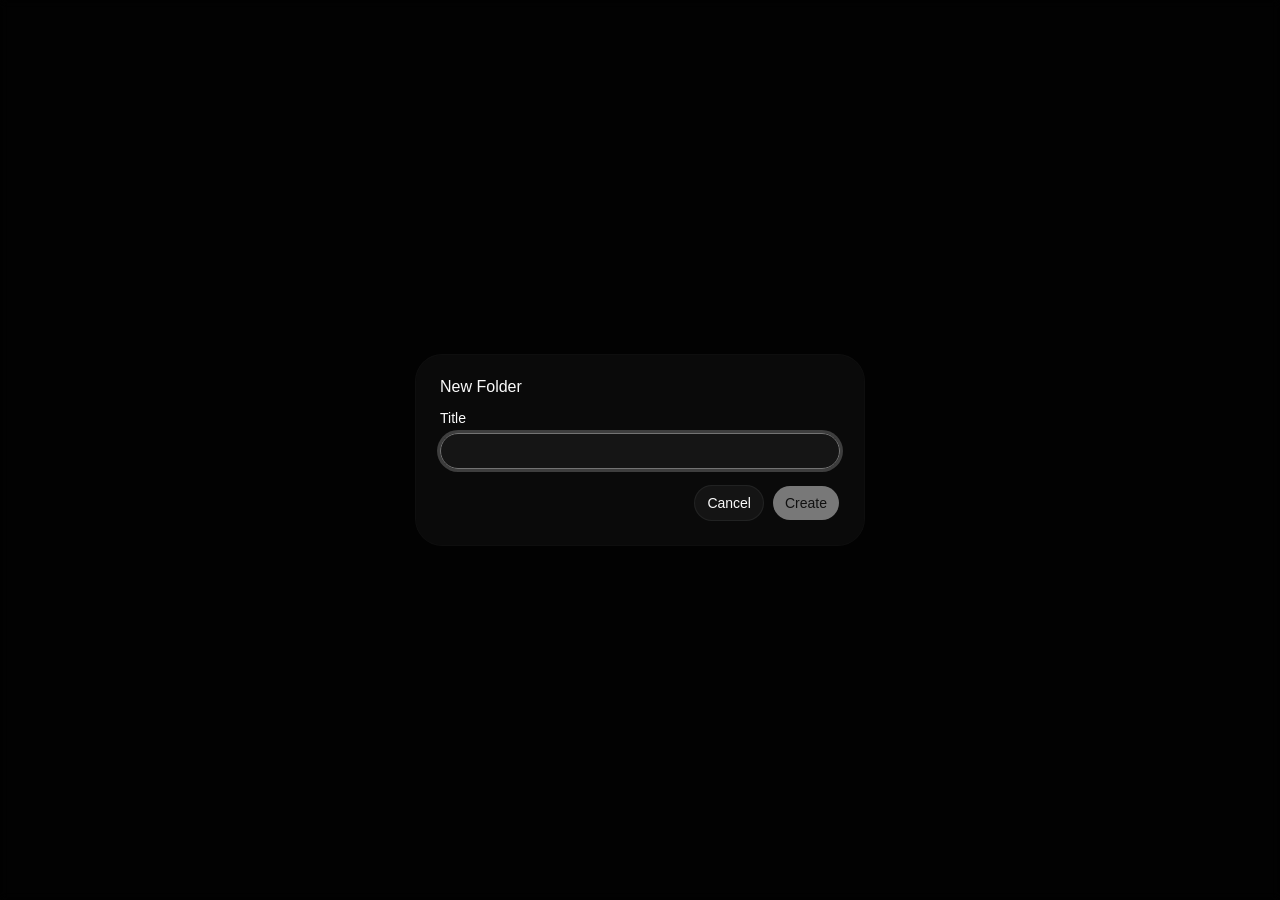
Test case: BookmarkOrganizerCreateDialog › disables Create until the folder has a title
Expected: the button "Create" is disabled, [772,485,840,521]
Type "Something" into the field labelled "Title" at (640, 451), box [440,433,840,469]
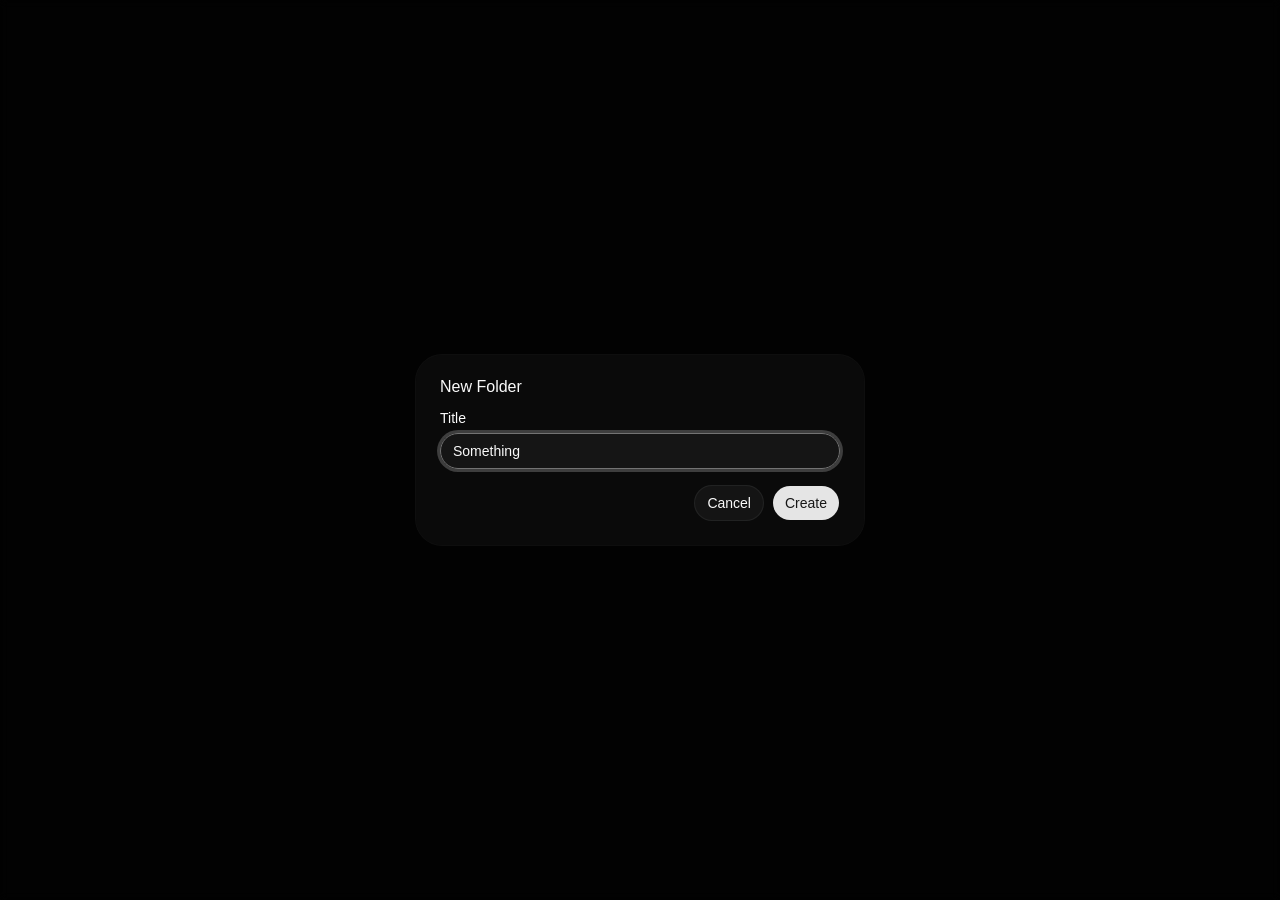
Now the button "Create" is enabled, box [772,485,840,521]
Clear the field labelled "Title" at (640, 451), box [440,433,840,469]
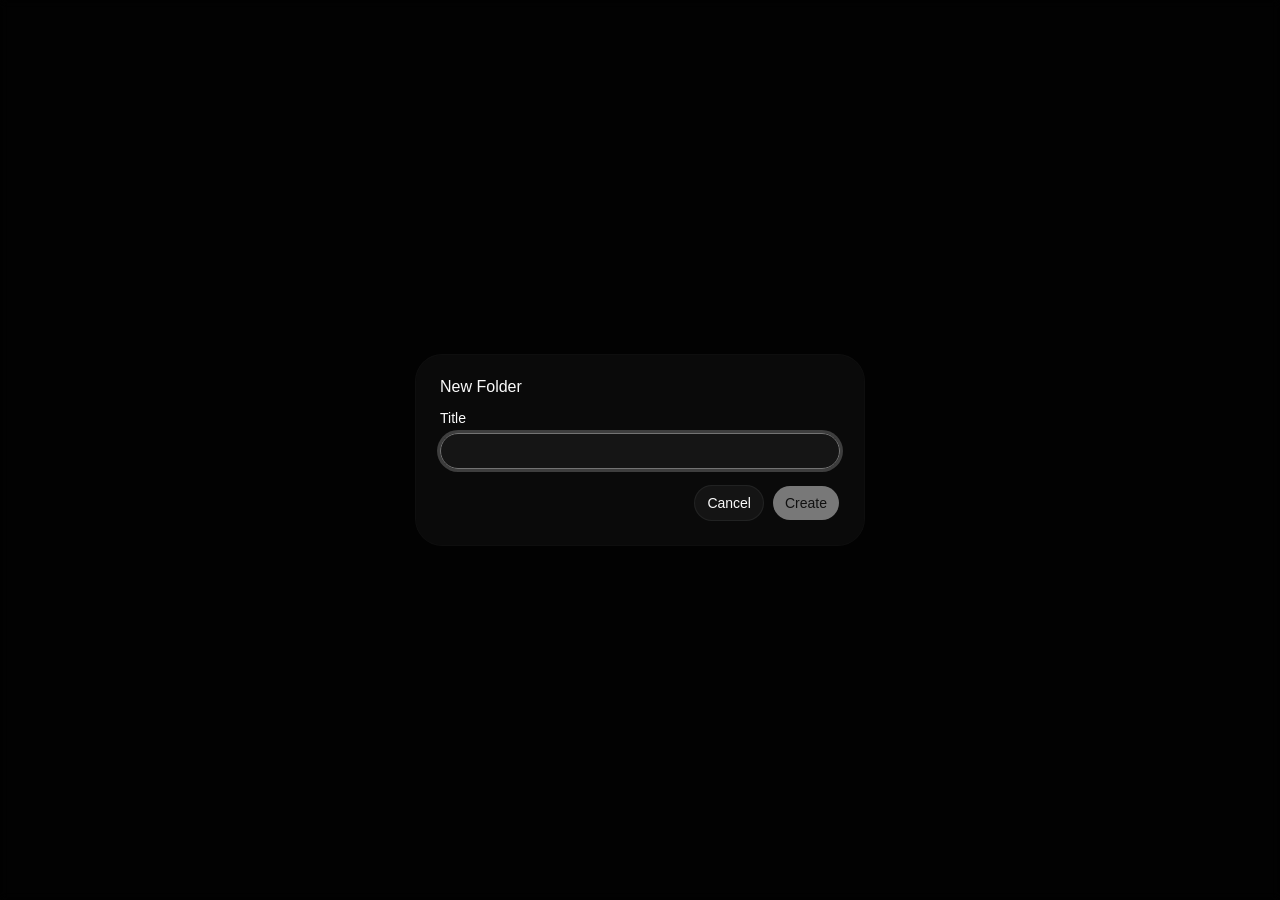
Now the button "Create" is disabled, box [772,485,840,521]
